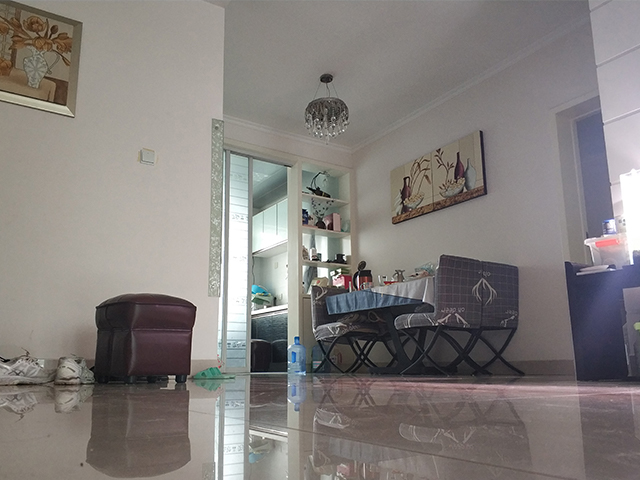stool: (393, 253, 524, 377), (91, 292, 200, 387), (310, 283, 413, 376)
table: (322, 273, 451, 377)
